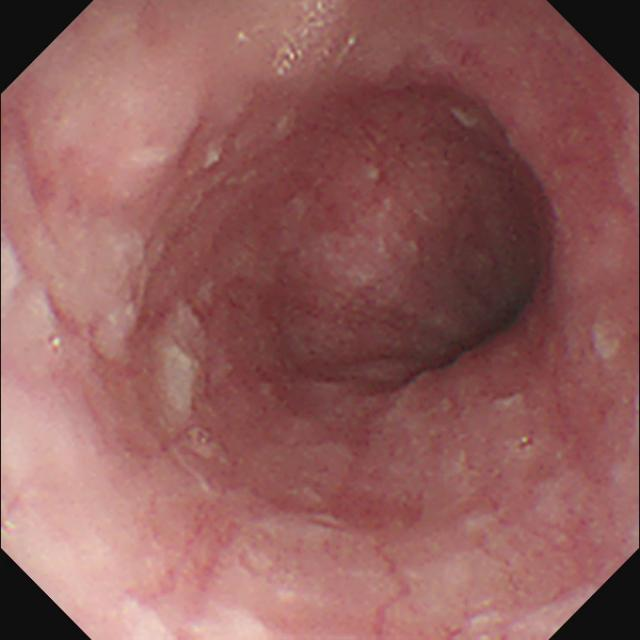A: (315, 479, 436, 536)
J: (160, 283, 218, 414), (274, 2, 340, 78), (591, 320, 626, 359)
